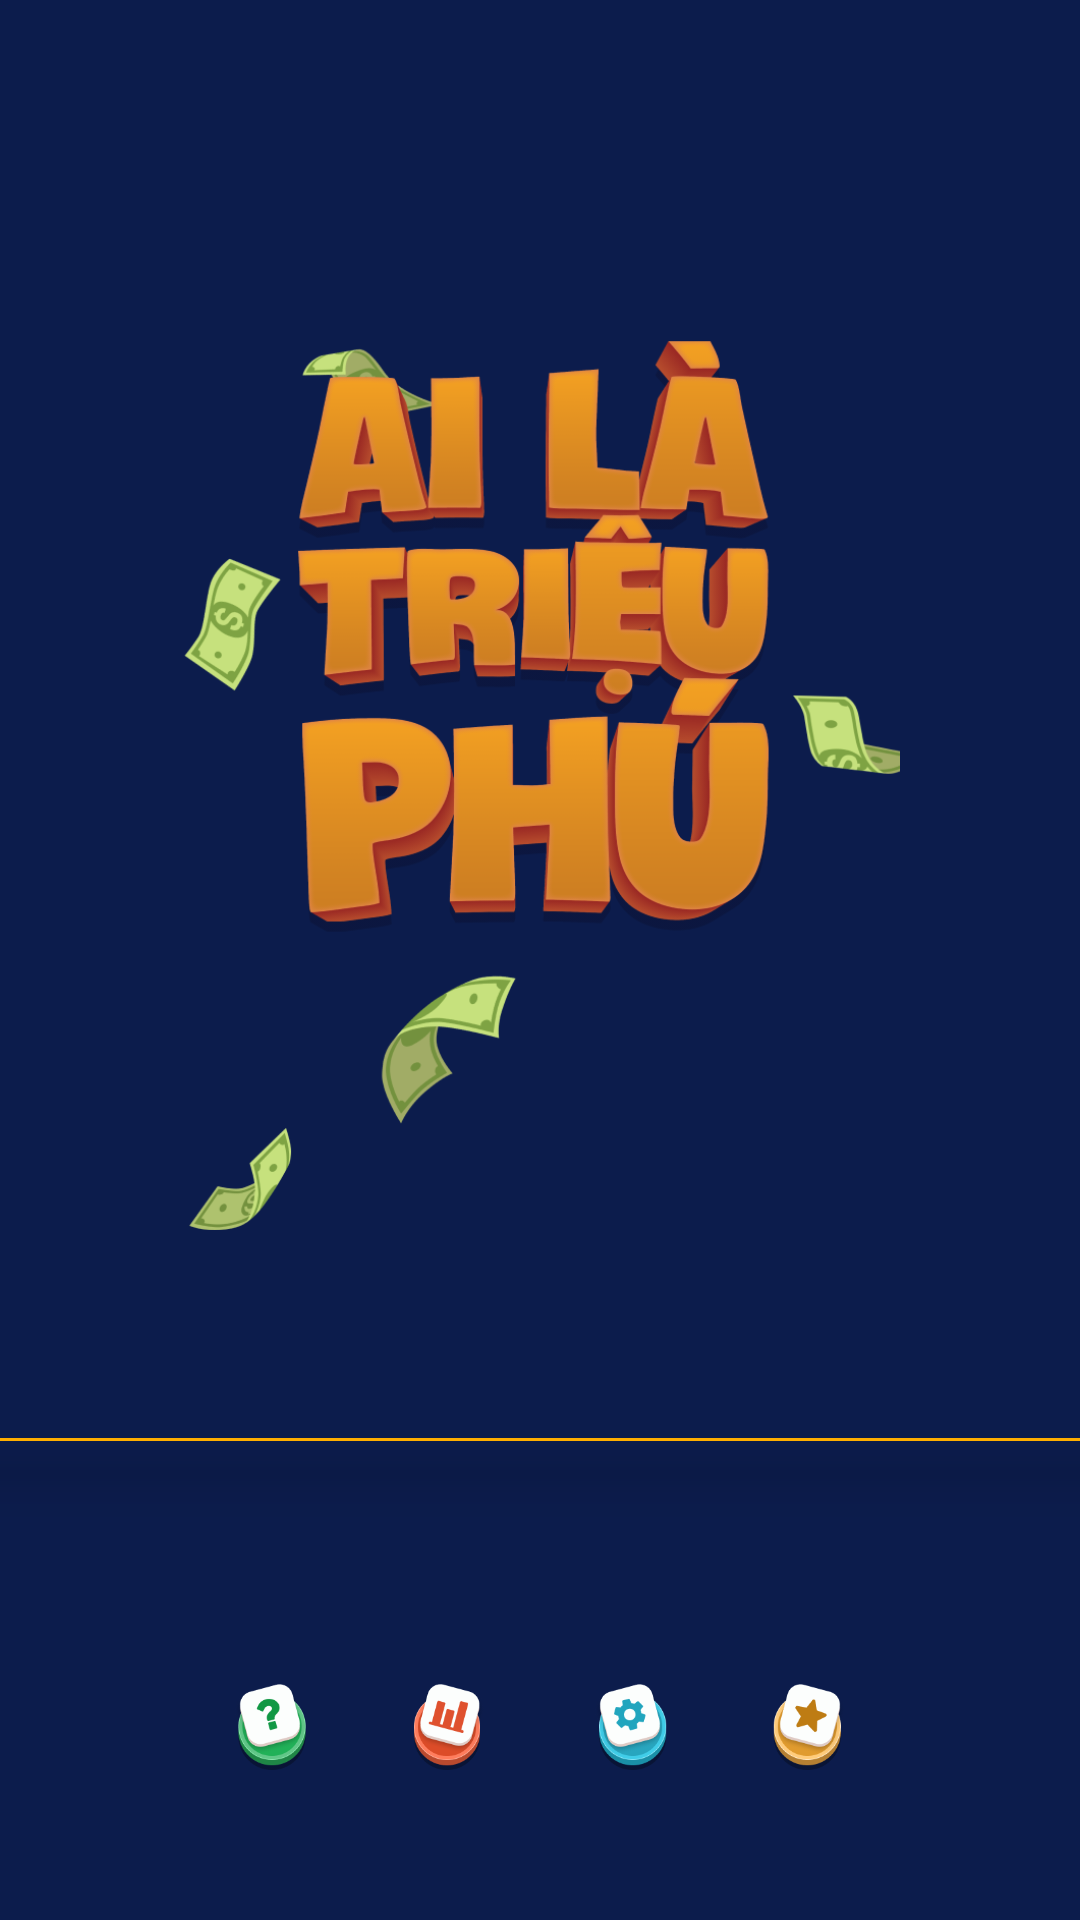

Icons on this 1080*1920 Android screen, each with its box as [x1=x1, y1=y1, x2=x2, y2=y2]:
info: [x1=238, y1=1684, x2=306, y2=1765]
rank: [x1=414, y1=1684, x2=480, y2=1766]
ratting: [x1=773, y1=1684, x2=841, y2=1766]
setting: [x1=599, y1=1684, x2=667, y2=1765]
